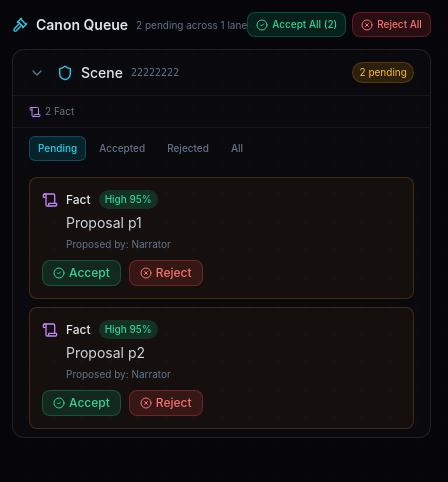
Test: CanonReviewPanel — batch actions › surfaces per-item failures from the batch response instead of blanket success
The width and height of the screenshot is (448, 482).
Step 1. Click the button "Accept All (2)" → coordinates (297, 24), box 247,12 -> 346,37
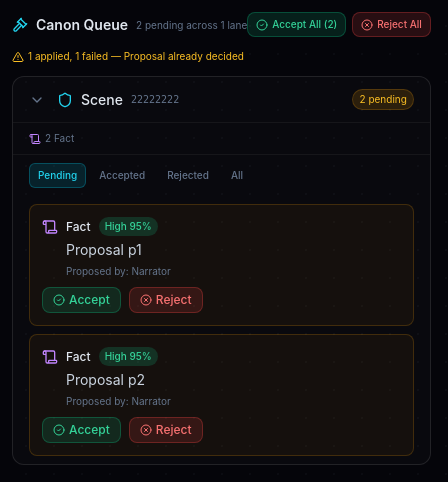
Now the text "1 applied, 1 failed — Proposal already decided" is shown, box 12,50 -> 244,62
